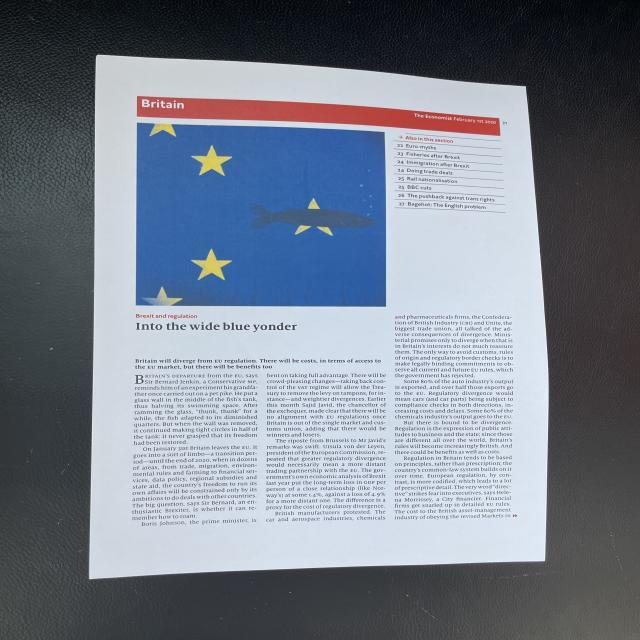document: (90, 56, 548, 578)
